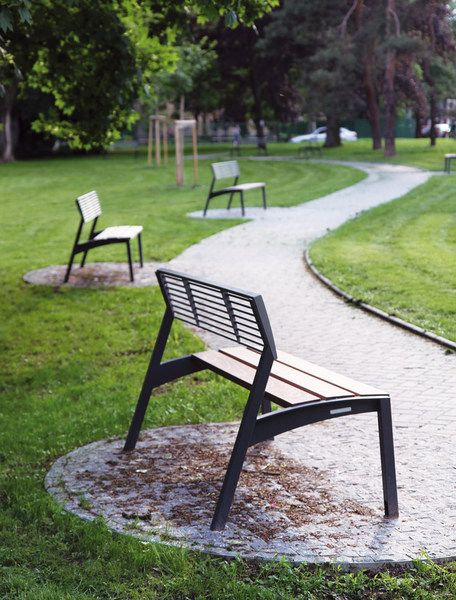Chair: (113, 267, 410, 535), (64, 184, 153, 286), (196, 152, 268, 228)
Tree: (320, 3, 453, 148)
